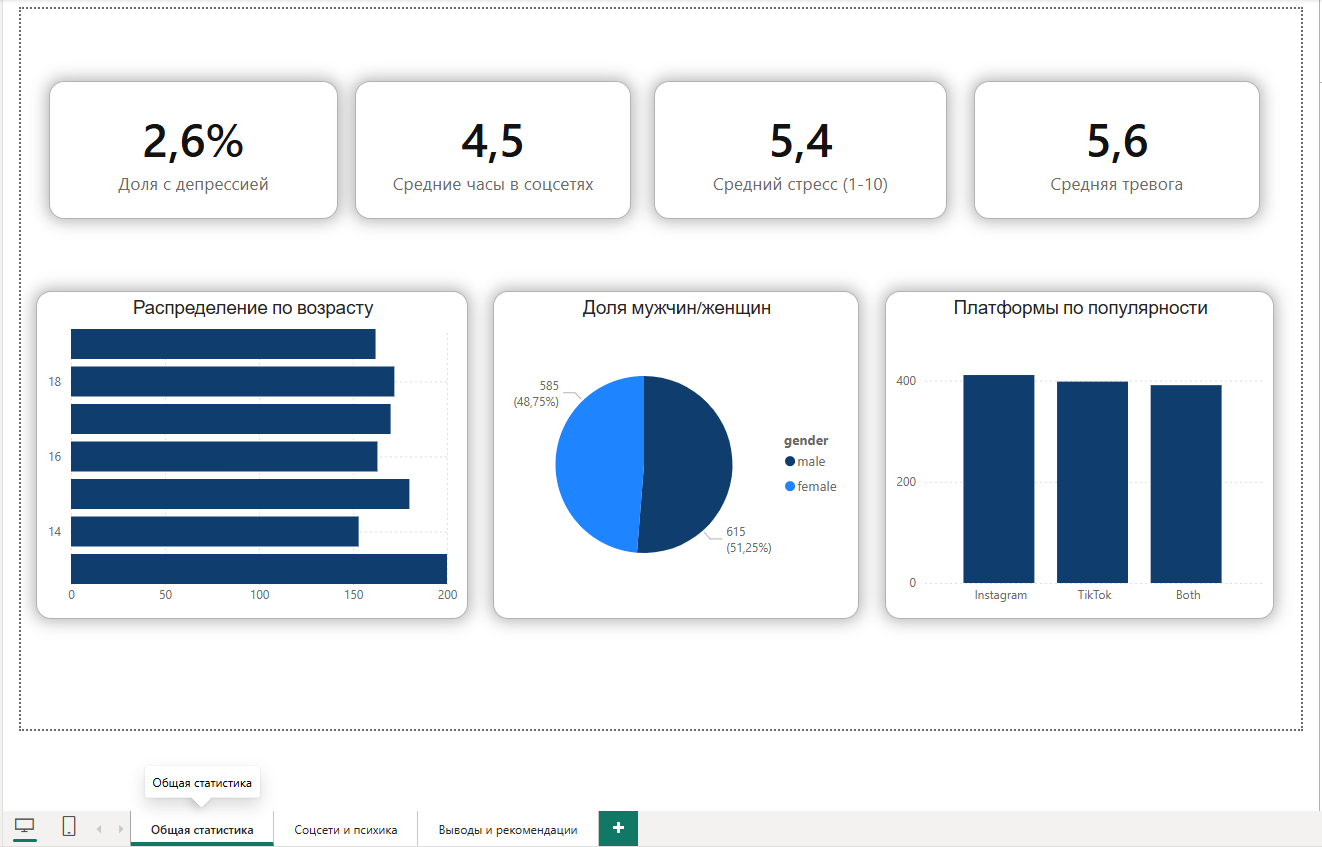

What the dashboard file says about the page in this screenshot:
{"tool":"powerbi","page":{"name":"Общая статистика","canvas":[1280,720],"ordinal":0},"visuals":[{"type":"cardVisual","fields":{"Data":["DAX.Доля с депрессией"]},"box":[28,72,289,138],"z":0},{"type":"cardVisual","fields":{"Data":["DAX.Средние часы в соцсетях"]},"box":[334,72,276,138],"z":1000},{"type":"cardVisual","fields":{"Data":["DAX.Средний стресс (1-10)"]},"box":[633,72,293,138],"z":2000},{"type":"cardVisual","fields":{"Data":["DAX.Средняя тревога"]},"box":[953,72,286,138],"z":3000},{"type":"barChart","title":"Распределение по возрасту","fields":{"Category":["Teen_Mental_Health_Dataset.age"],"Y":["CountNonNull(Teen_Mental_Health_Dataset.age)"]},"box":[15,282,432,328],"z":4000},{"type":"pieChart","title":"Доля мужчин/женщин","fields":{"Category":["Teen_Mental_Health_Dataset.gender"],"Y":["CountNonNull(Teen_Mental_Health_Dataset.gender)"]},"box":[472,282,366,328],"z":5000},{"type":"columnChart","title":"Платформы по популярности","fields":{"Category":["Teen_Mental_Health_Dataset.platform_usage"],"Y":["CountNonNull(Teen_Mental_Health_Dataset.platform_usage)"]},"box":[864,282,389,328],"z":6000}]}

Visuals, with their boxes on the page's 1280x720 design canvas (x1, y1, x2, y2). These are canvas units, not pixel positions in the 1322x847 screenshot, which may show the page scaled, cropped or inside an application window:
cardVisual - DAX.Доля с депрессией: x1=28, y1=72, x2=317, y2=210
cardVisual - DAX.Средние часы в соцсетях: x1=334, y1=72, x2=610, y2=210
cardVisual - DAX.Средний стресс (1-10): x1=633, y1=72, x2=926, y2=210
cardVisual - DAX.Средняя тревога: x1=953, y1=72, x2=1239, y2=210
"Распределение по возрасту" barChart: x1=15, y1=282, x2=447, y2=610
"Доля мужчин/женщин" pieChart: x1=472, y1=282, x2=838, y2=610
"Платформы по популярности" columnChart: x1=864, y1=282, x2=1253, y2=610
